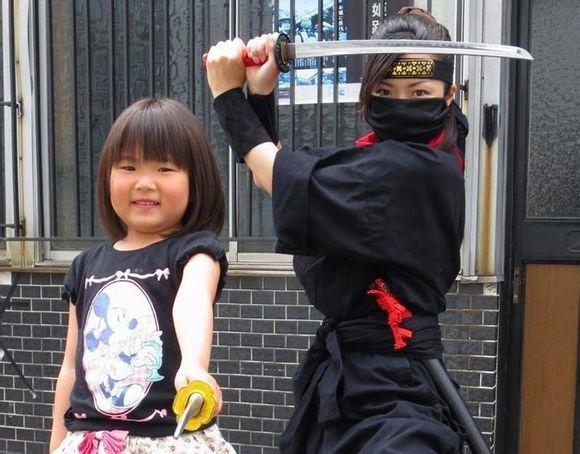NONE: (115, 151, 195, 229)
OK: (365, 68, 448, 151)
